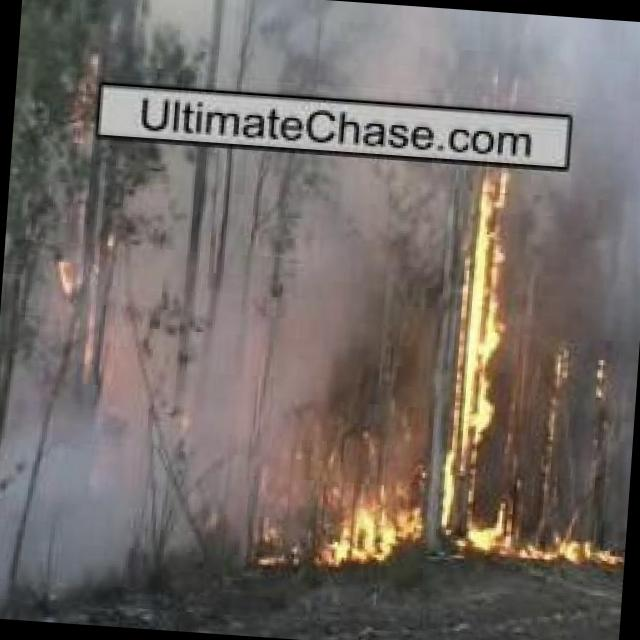Fire: (316, 484, 628, 580), (448, 163, 514, 502), (40, 32, 107, 180), (538, 336, 578, 468), (47, 239, 84, 301)
